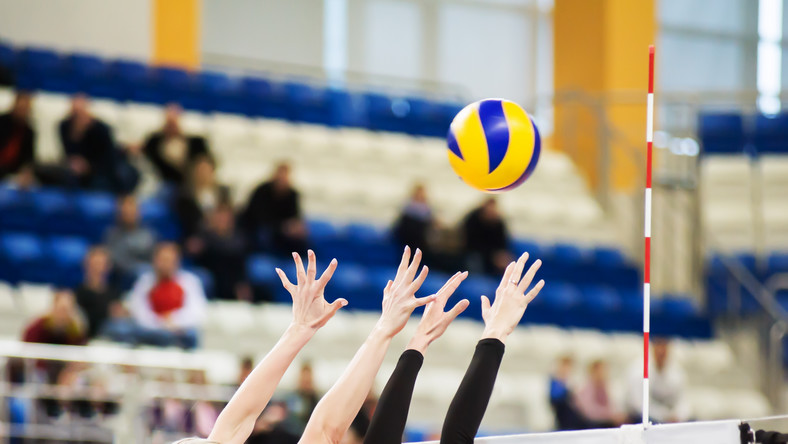ball: (446, 97, 542, 189)
